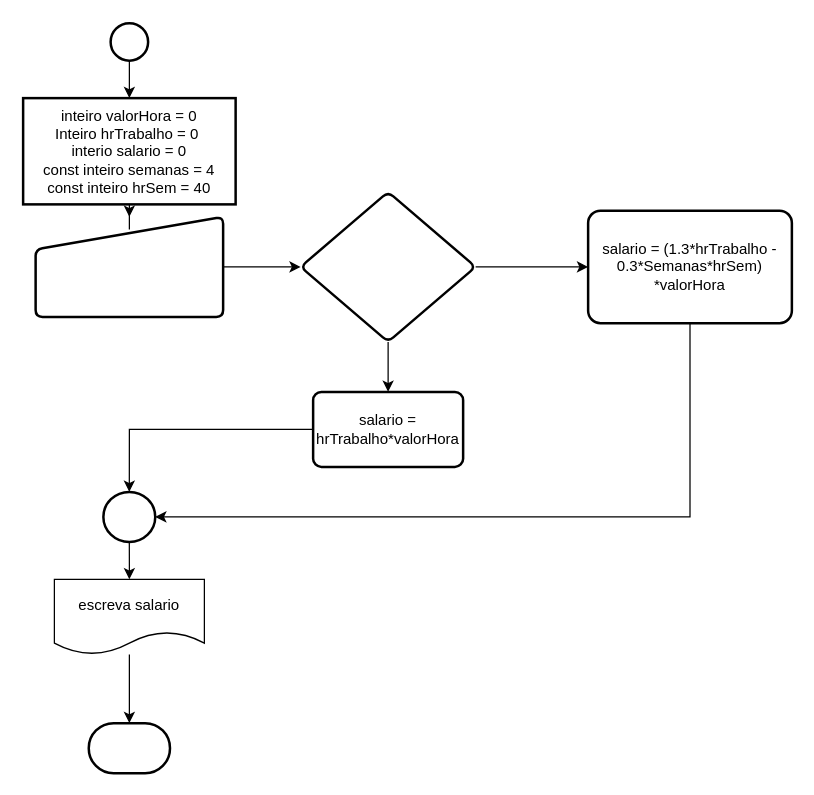
This 814x795 diagram has some shape labels left out. The centre of each missing label's shape, as x and y in pixels:
hrTrabalho > (semanas * hrSem): the point at 387,266
leia valorHora leia hrTrabalho: the point at 129,266
